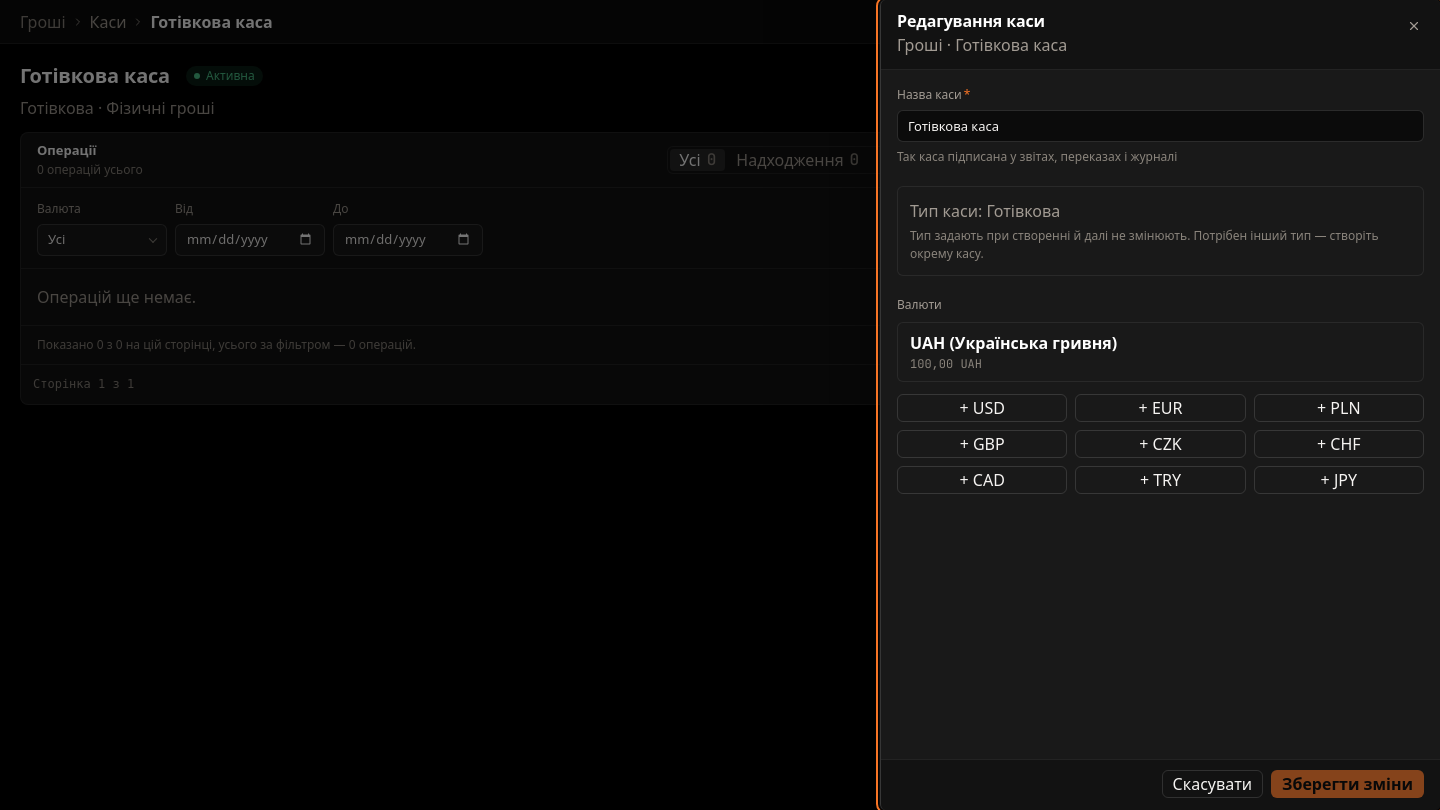
Test: keeps current cash register currencies visible when addition fails
Click the button with aria-label "Додати GBP" at {"x": 982, "y": 444}, box [897,430,1067,458]
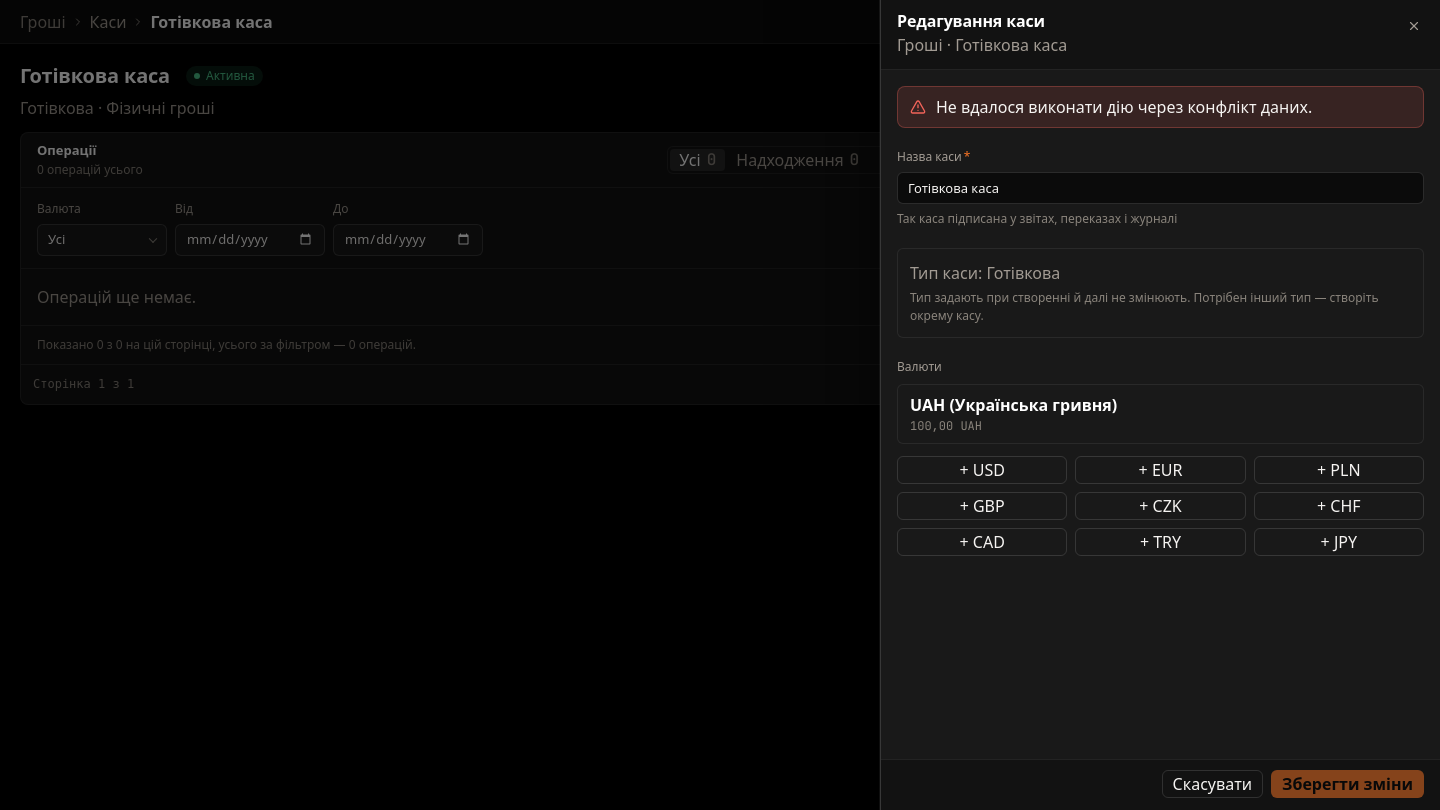
expect the text "UAH (Українська гривня)" is shown: met, box [910,393,1117,417]
expect the text "Не вдалося виконати дію через конфлікт даних." is shown: met, box [936,96,1312,118]
